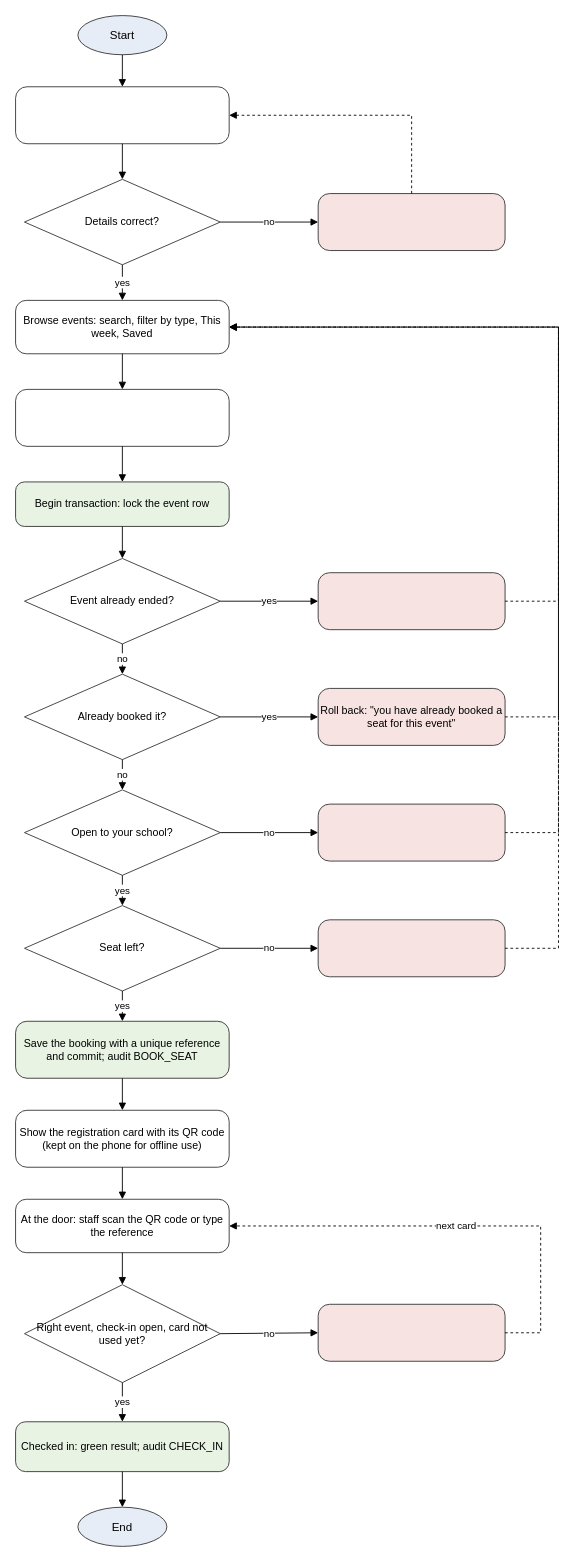
Image size: 581x1562. Some labels were removed from this diagram. The shapes that lost their labels are listed below. From the top down, each one's centre as x and y in pixels, then its label:
(x=122, y=115): Log in with email and password (then a 6-digit code if two-factor is on)
(x=411, y=222): One general error message; 5 failures lock the account for a while
(x=122, y=417): Open an event and select Reserve my seat (details come from the account)
(x=411, y=601): Roll back: "this event has already taken place"
(x=411, y=832): Roll back: "this event is open to ... only"
(x=411, y=948): Roll back: "this event is full", offer Join the waitlist
(x=411, y=1332): Amber or red result with the reason; nothing is recorded
